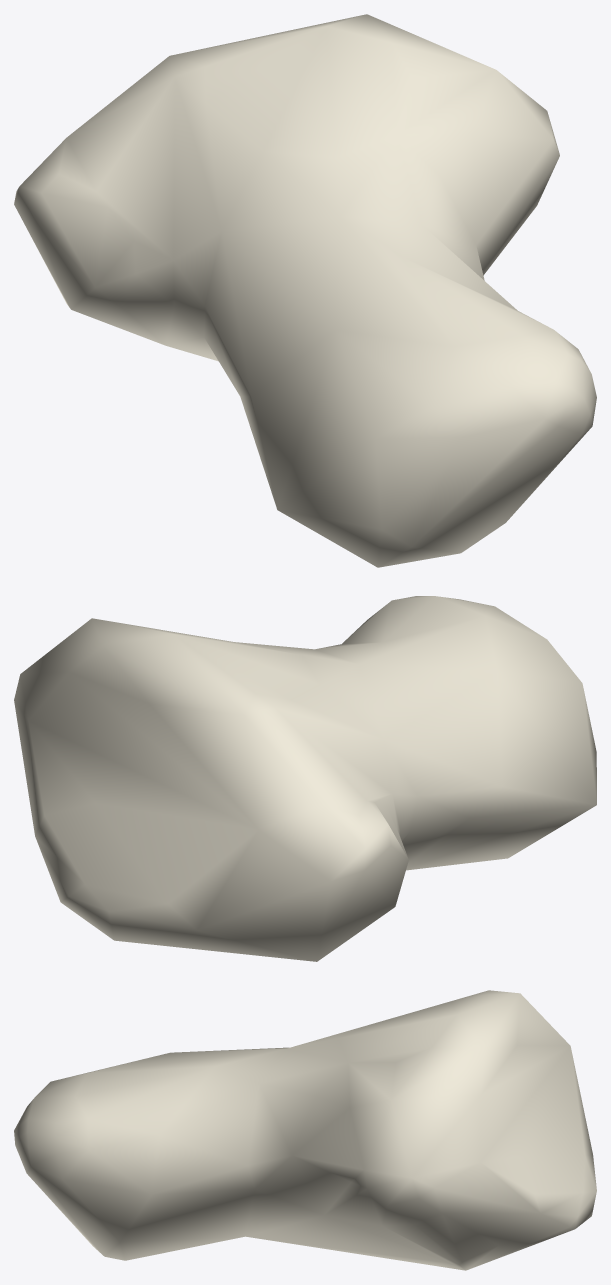
3 views of the same model, one above another, from view 1: azimuth 30°, elevation 25°; view 2: azimuth 150°, elevation 25°; view 3: azimuth 270°, elevation 25° (orthographic). The views are drawn at different scales.
Parts seen in each view (by area): view 1: ZA_01e1daf784598dbd; view 2: ZA_01e1daf784598dbd; view 3: ZA_01e1daf784598dbd.
Part boxes in pixels (x1,y1,x2,y2): ZA_01e1daf784598dbd: (14, 14, 596, 567); ZA_01e1daf784598dbd: (14, 596, 596, 961); ZA_01e1daf784598dbd: (14, 990, 596, 1270).
Size of the model in its own units: 0.00789 by 0.00563 by 0.0109.
